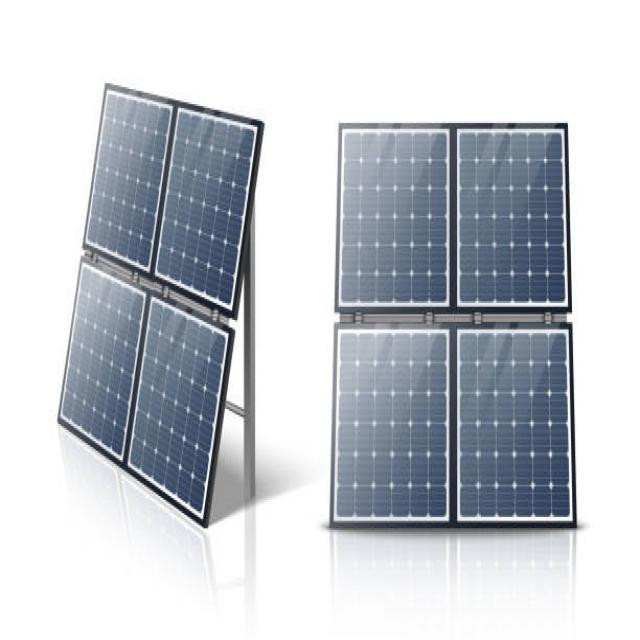Normal Solar Panel: (334, 123, 577, 530), (56, 89, 265, 526)
